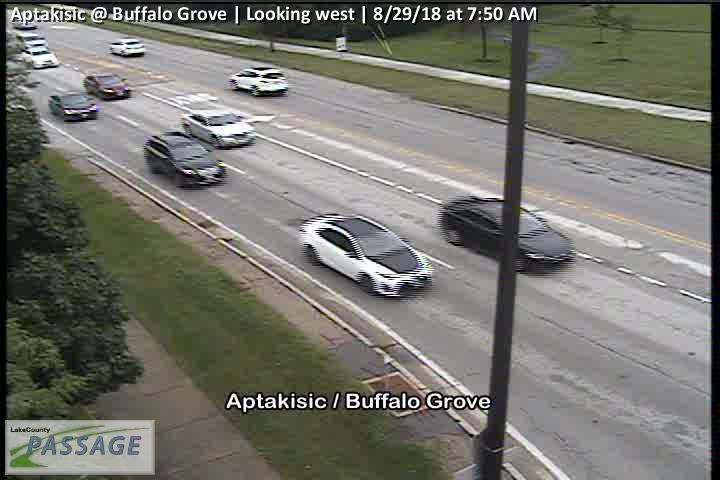SUV: (229, 69, 289, 97)
Sedan: (297, 213, 432, 297), (440, 197, 576, 275), (140, 132, 227, 189), (180, 107, 256, 147), (48, 91, 99, 121), (83, 72, 129, 98), (24, 47, 60, 68), (111, 38, 146, 57)
